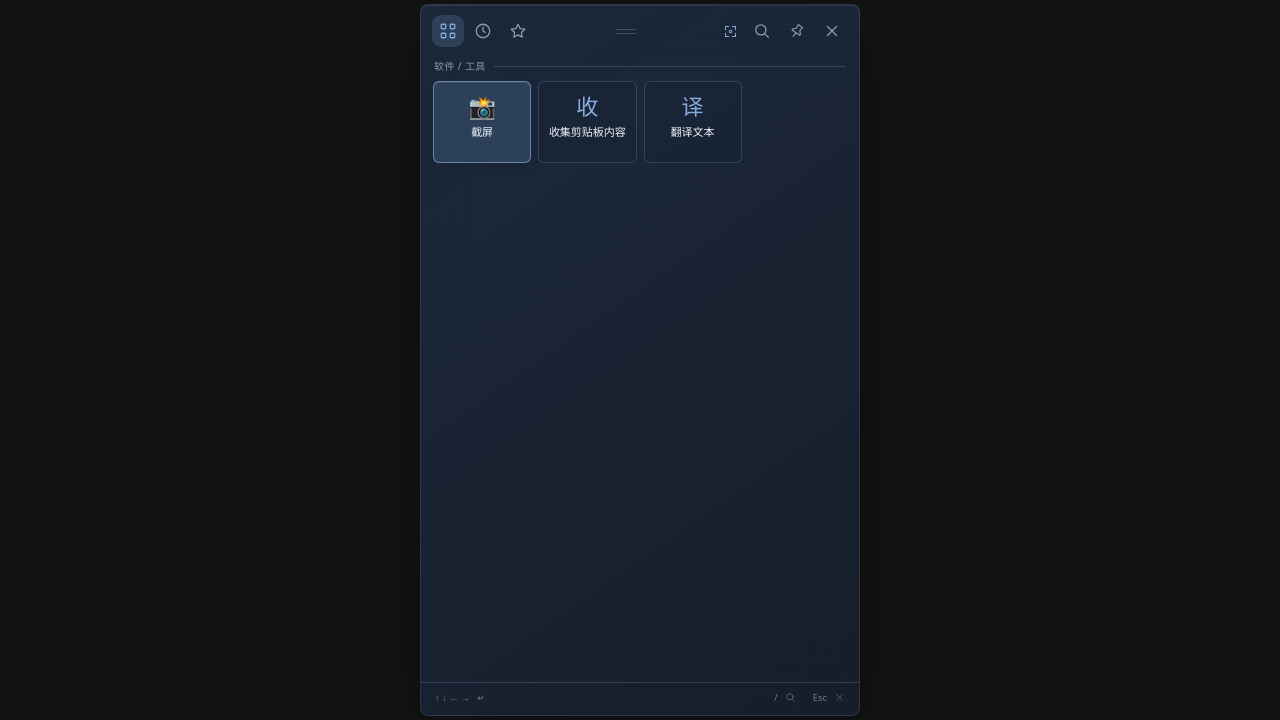
Test: LauncherPage native window interactions › 剪贴板截图超过限制时阻止归档并显示可恢复错误
What coordinates should you click on to do the following:
click the option "收 收集剪贴板内容"
I would click on:
 (587, 122)
Its box is top-left (538, 81), bottom-right (637, 163).
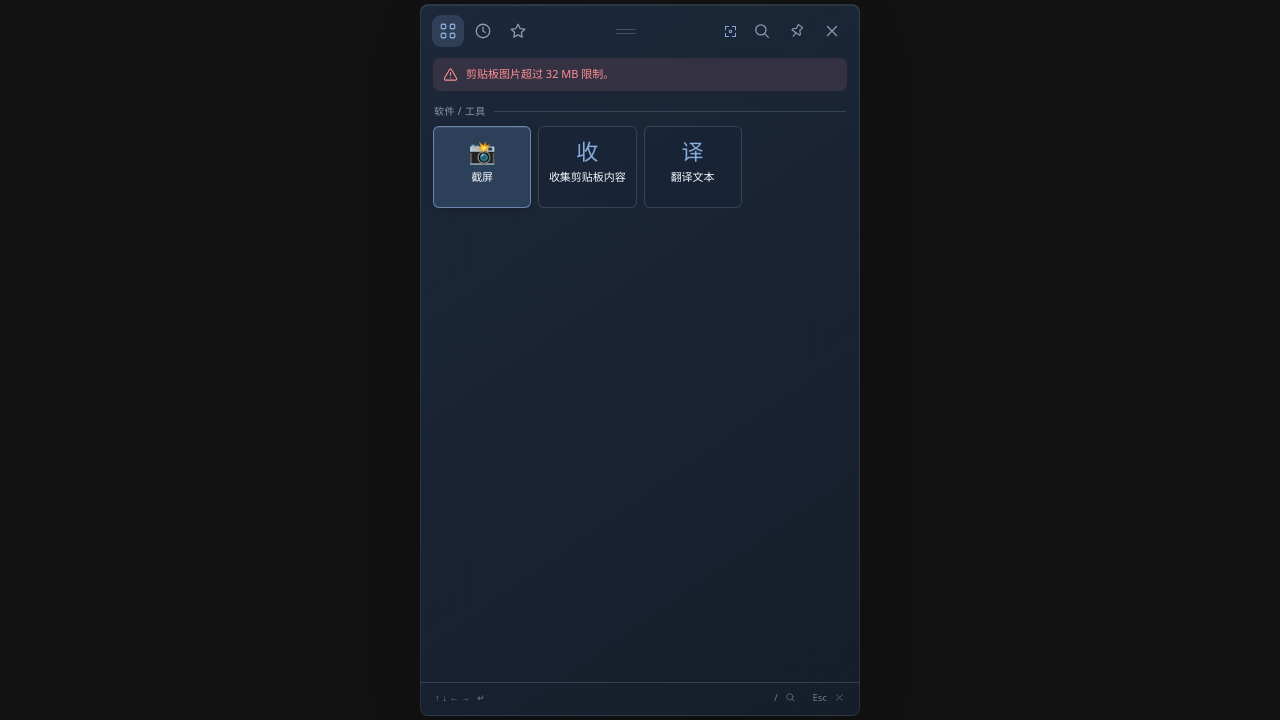
Expected: the message shows "超过 32 MB", top-left (466, 66), bottom-right (614, 81)
